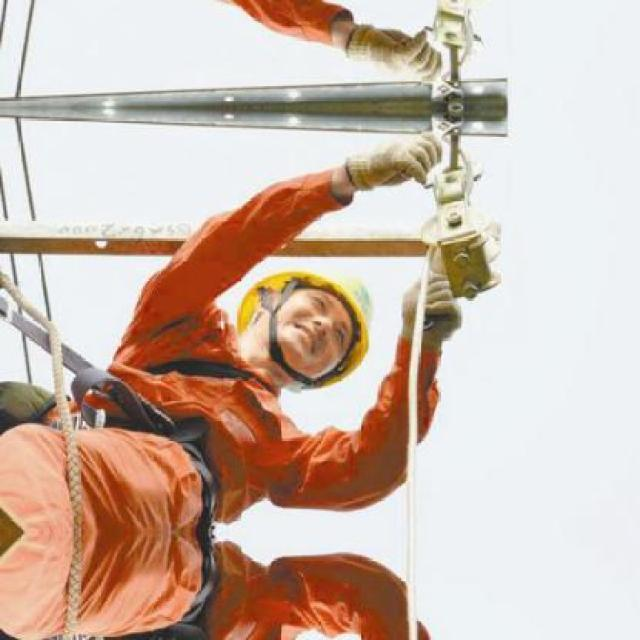helmet: (218, 243, 382, 388)
